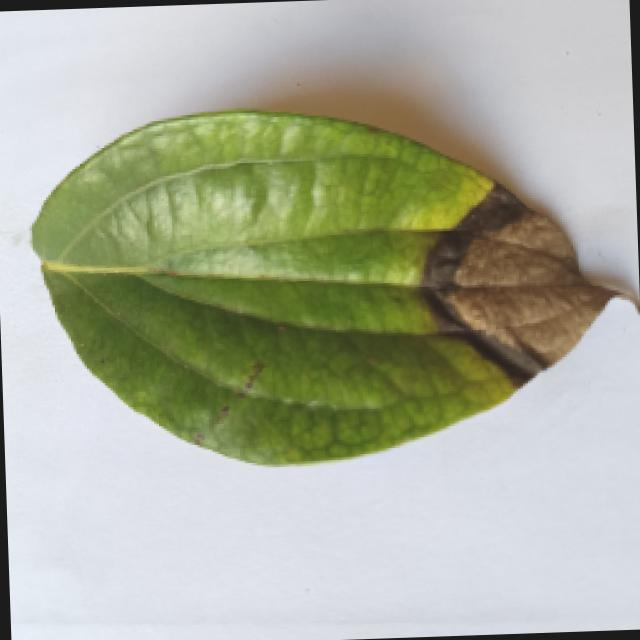footrot: (33, 96, 640, 474)
